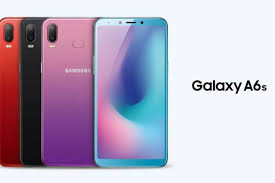samsung: (95, 16, 168, 169), (40, 16, 95, 169)
